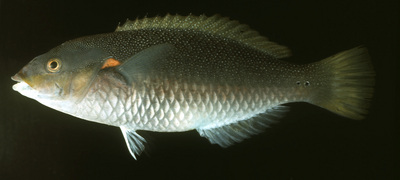fish: (10, 12, 372, 161)
